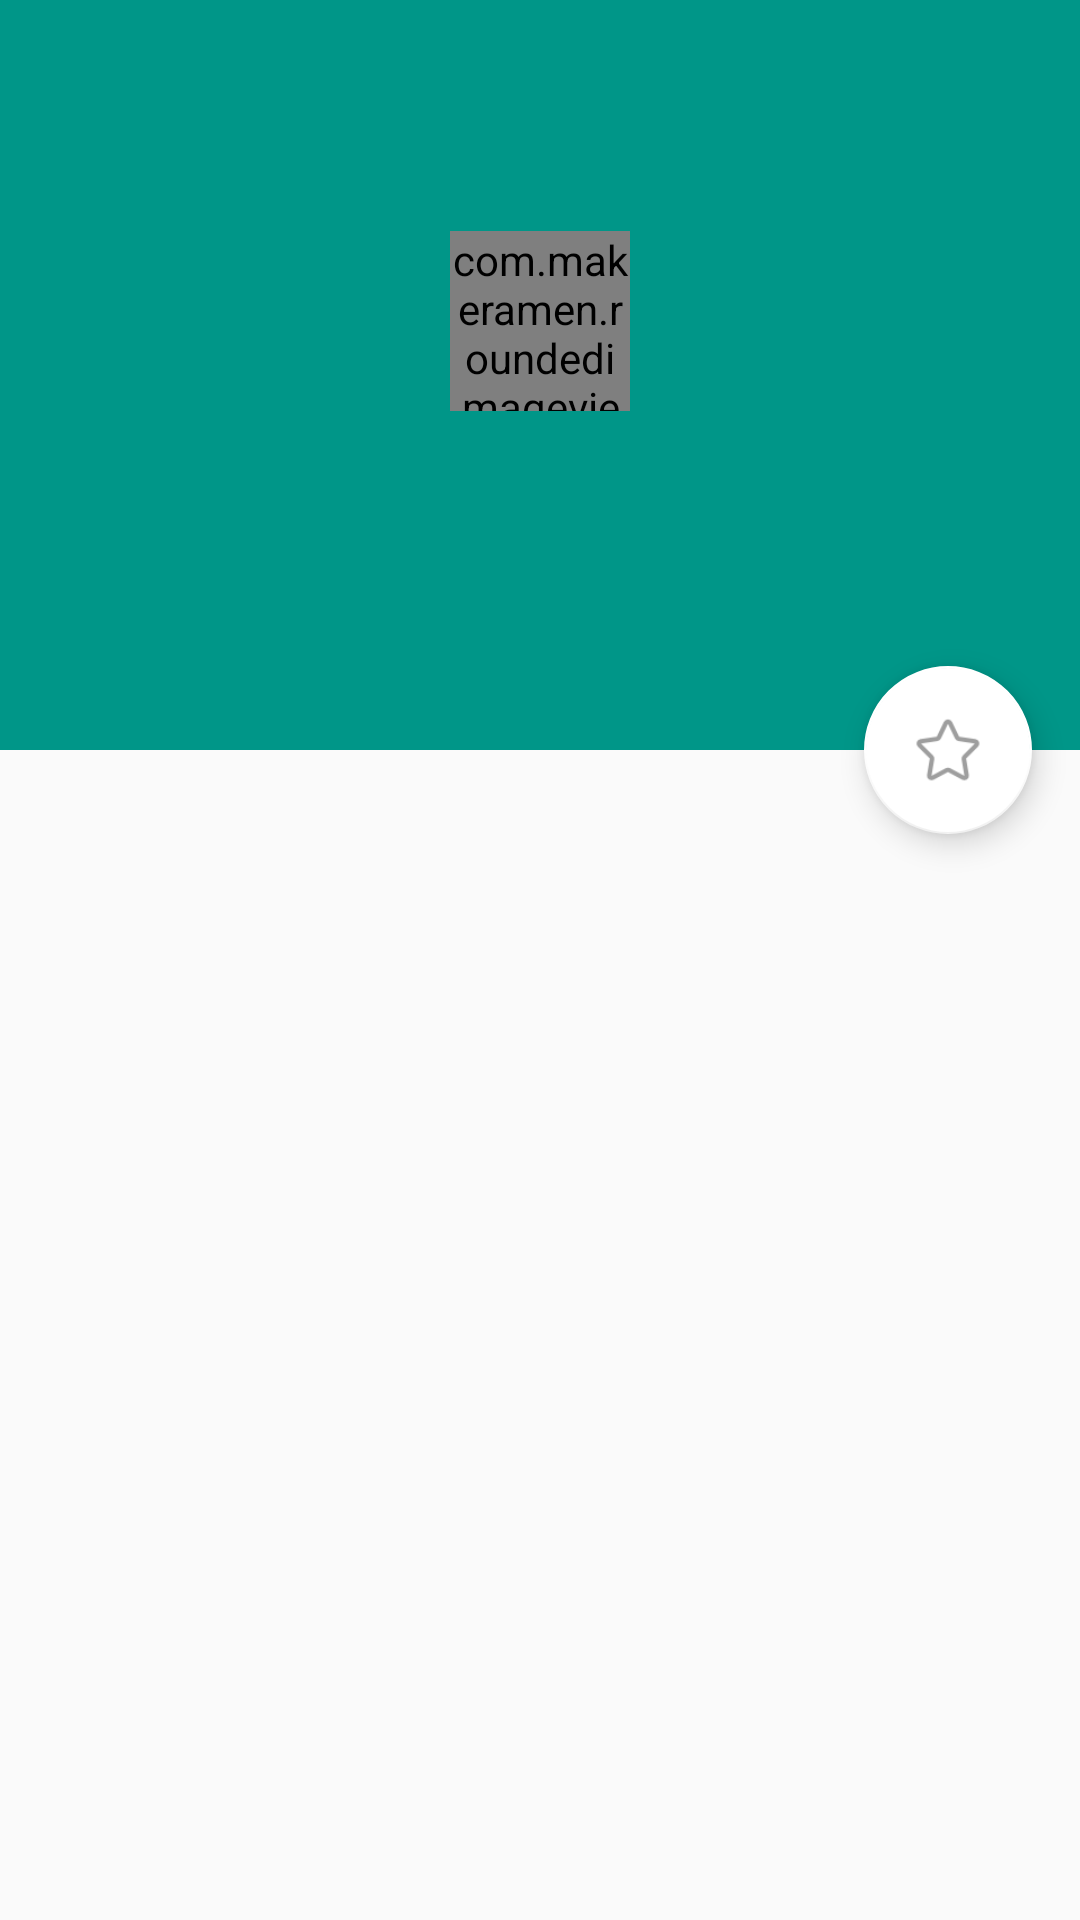

Point at icon controls on the screen. Image size 1080px x 1920px, points as [x,y].
shoucang: [948,750]
